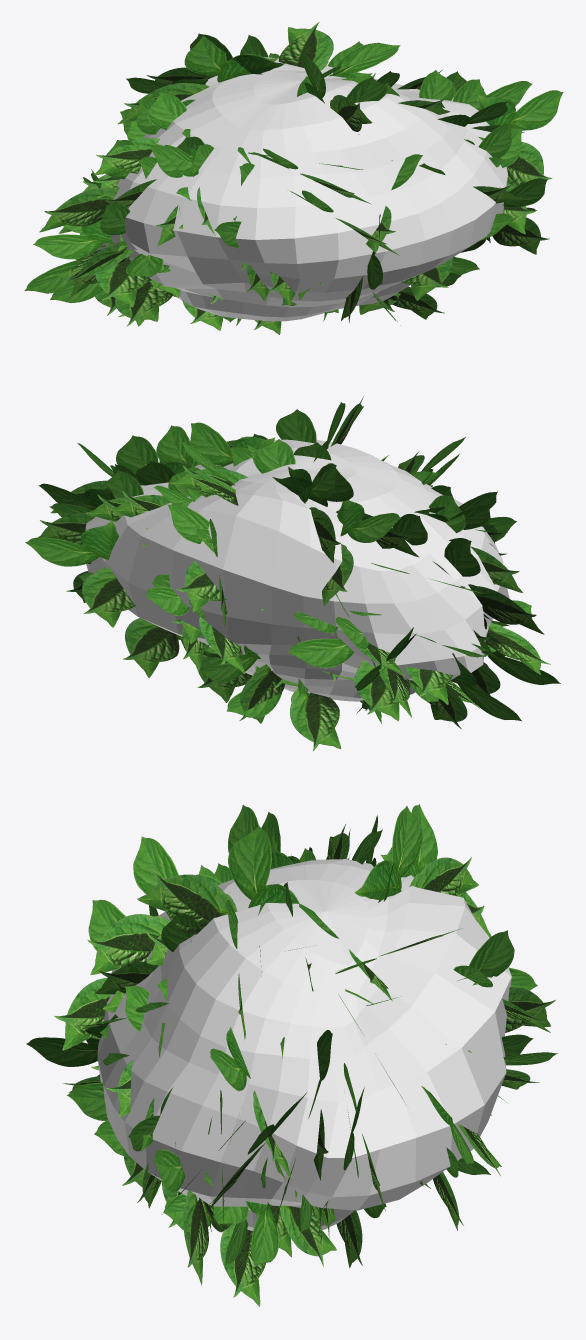
The model's file is куст 1,4.fbx.
The picture shows the model from 3 angles, top to bottom: view 1: azimuth 30°, elevation 25°; view 2: azimuth 150°, elevation 25°; view 3: azimuth 270°, elevation 25°; orthographic projection. The views are drawn at different scales.
Visible parts, largest first — view 1: Сфера, Сфера|Плоскость|Dupli|; view 2: Сфера|Плоскость|Dupli|, Сфера; view 3: Сфера, Сфера|Плоскость|Dupli|.
Boxes of the visible parts, x1,y1,x2,y2 form: Сфера: (95,57,507,321); Сфера|Плоскость|Dupli|: (24,22,563,334); Сфера|Плоскость|Dupli|: (25,396,560,751); Сфера: (85,439,509,701); Сфера: (97,859,511,1230); Сфера|Плоскость|Dupli|: (26,804,557,1306).
Size of the model in its own units: 1011 by 579 by 695.
